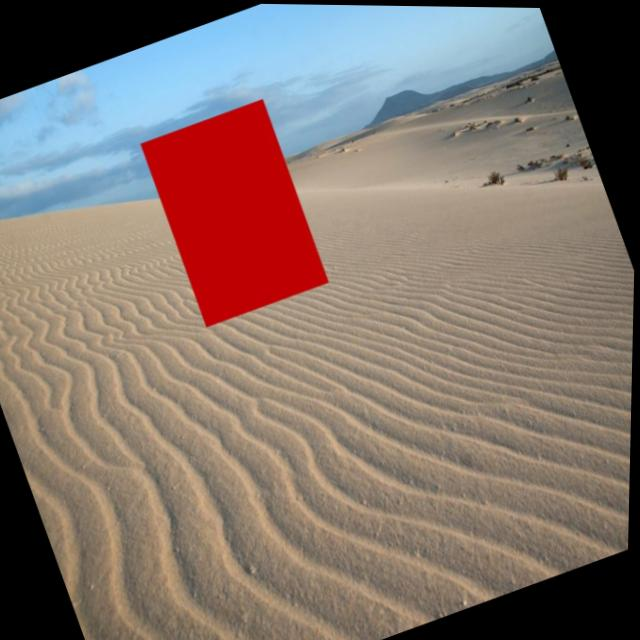RedSquare: (134, 90, 346, 338)
